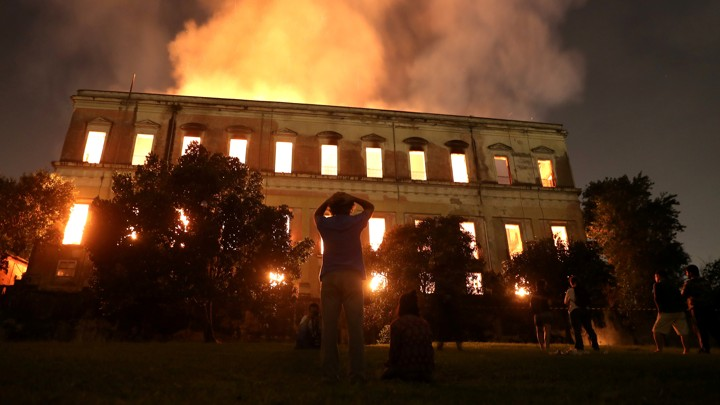Fire: (176, 46, 379, 104), (62, 200, 94, 249)
